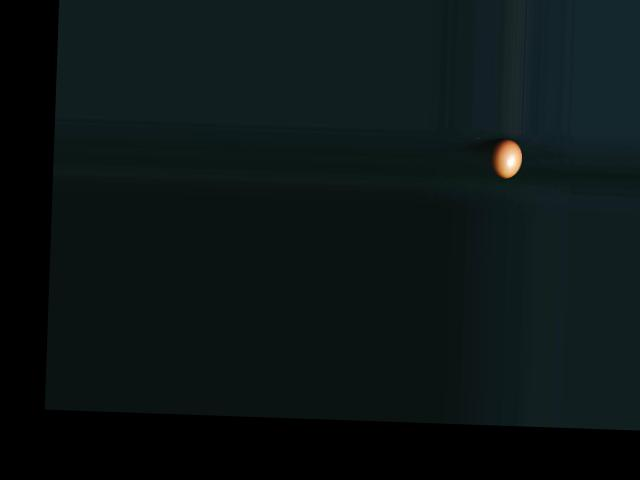egg: (490, 138, 521, 178)
